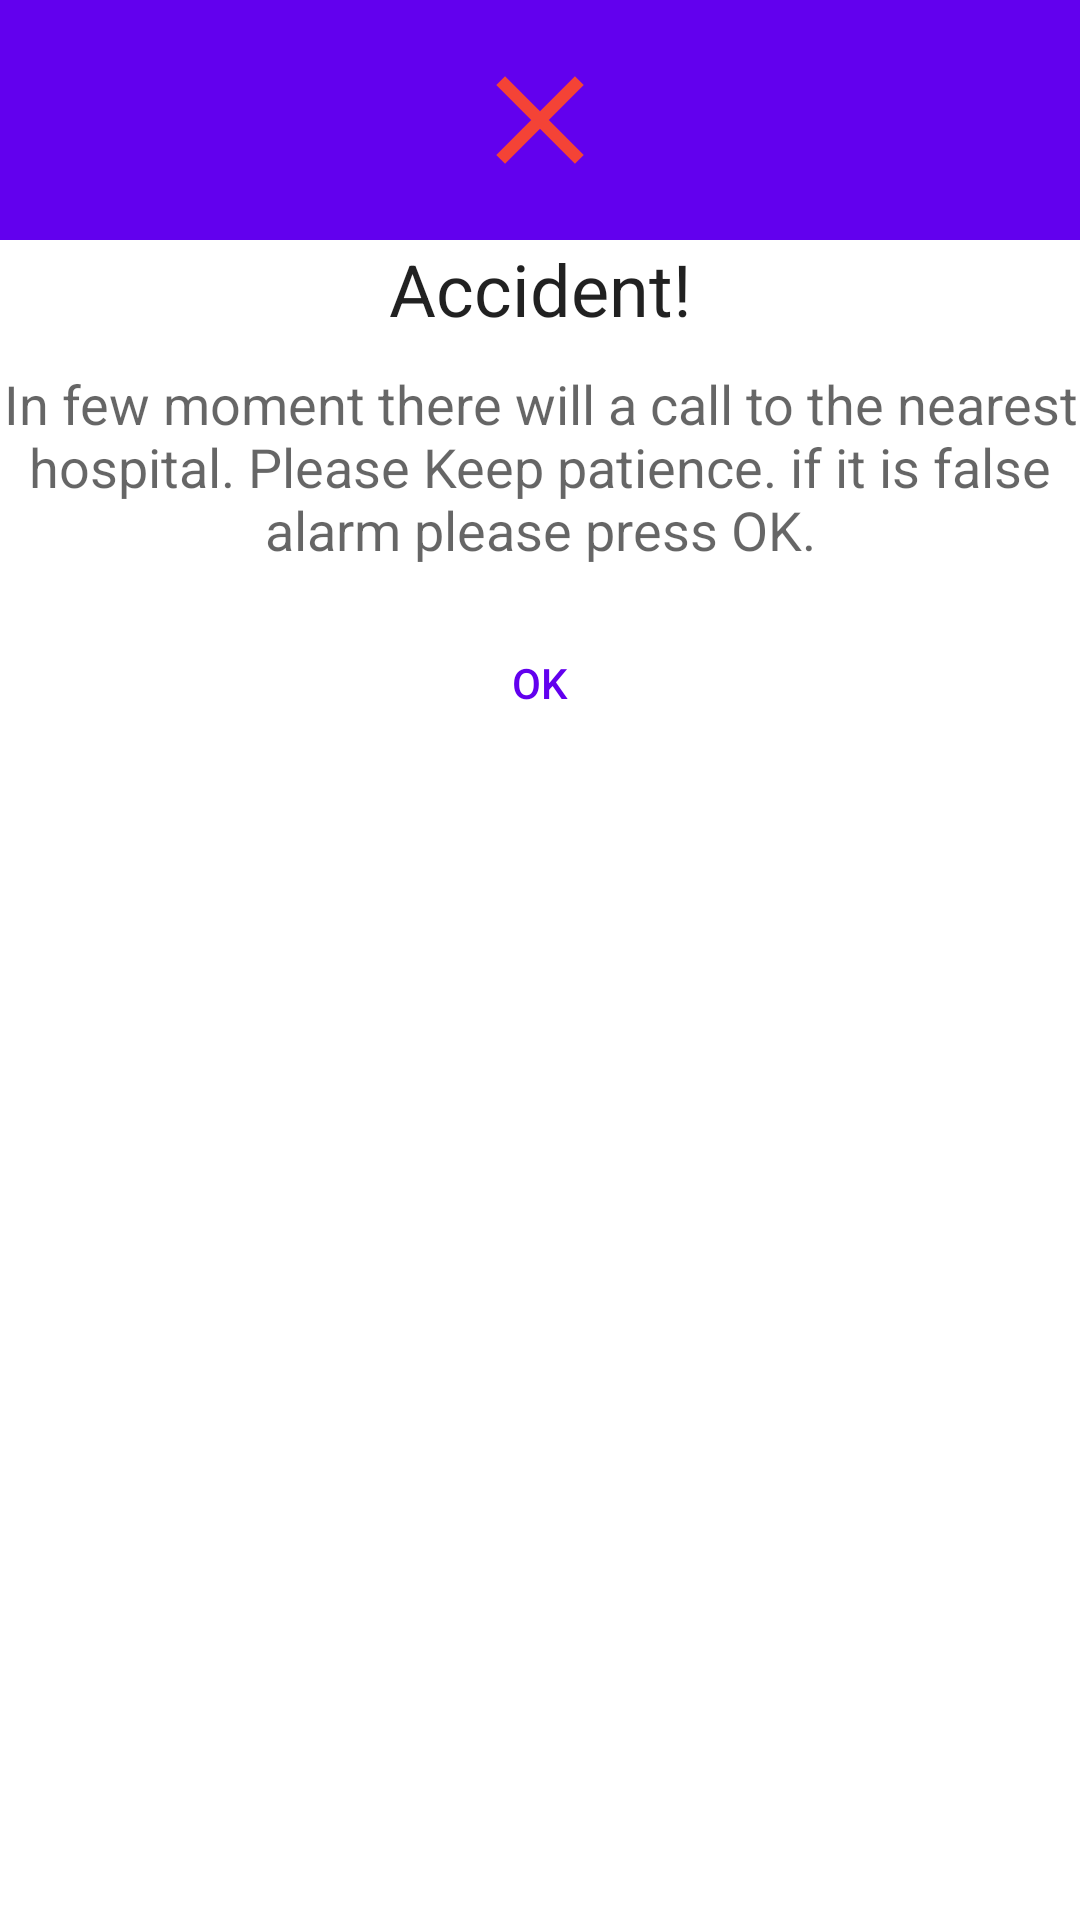

Icon click points for this 1080w x 1920h phone screenshot, format (x=x, y=y):
failure: (x=540, y=120)
